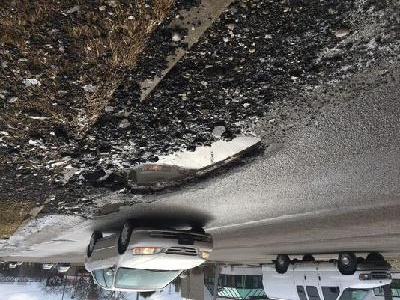pothole: (112, 131, 268, 198), (89, 198, 135, 219)
